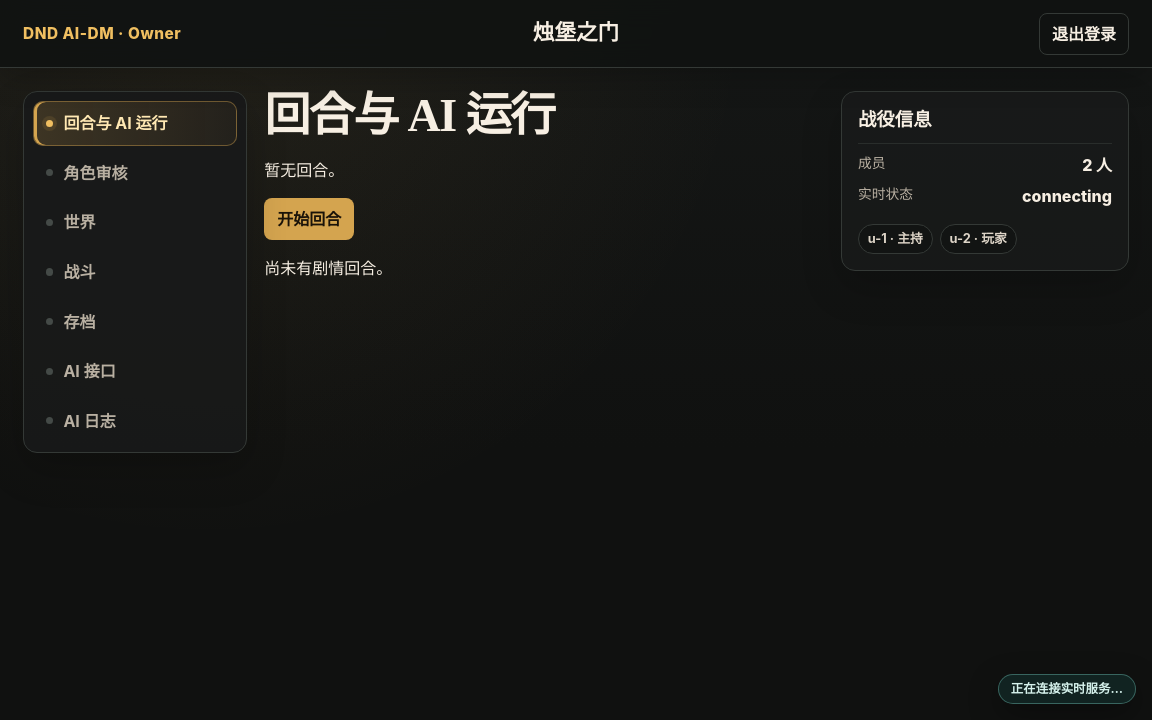
Test: 回合与 AI 运行 › 无回合时显示空状态并可开始回合
This screenshot has width=1152, height=720.
Expected: the text "暂无回合。" is shown, [264,160,344,180]
Step 1. Click the button "开始回合" → (309, 219), box [264,198,354,240]
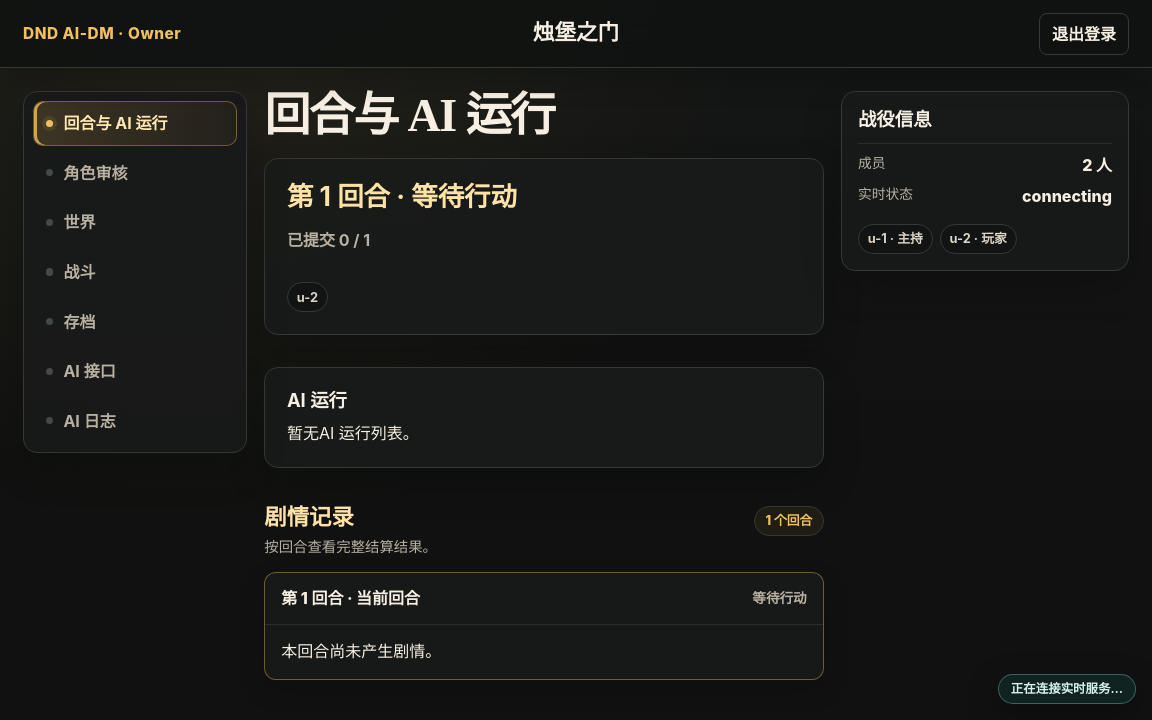
Result: the heading "第 1 回合 · 等待行动" is shown at [287,180,517,212]
